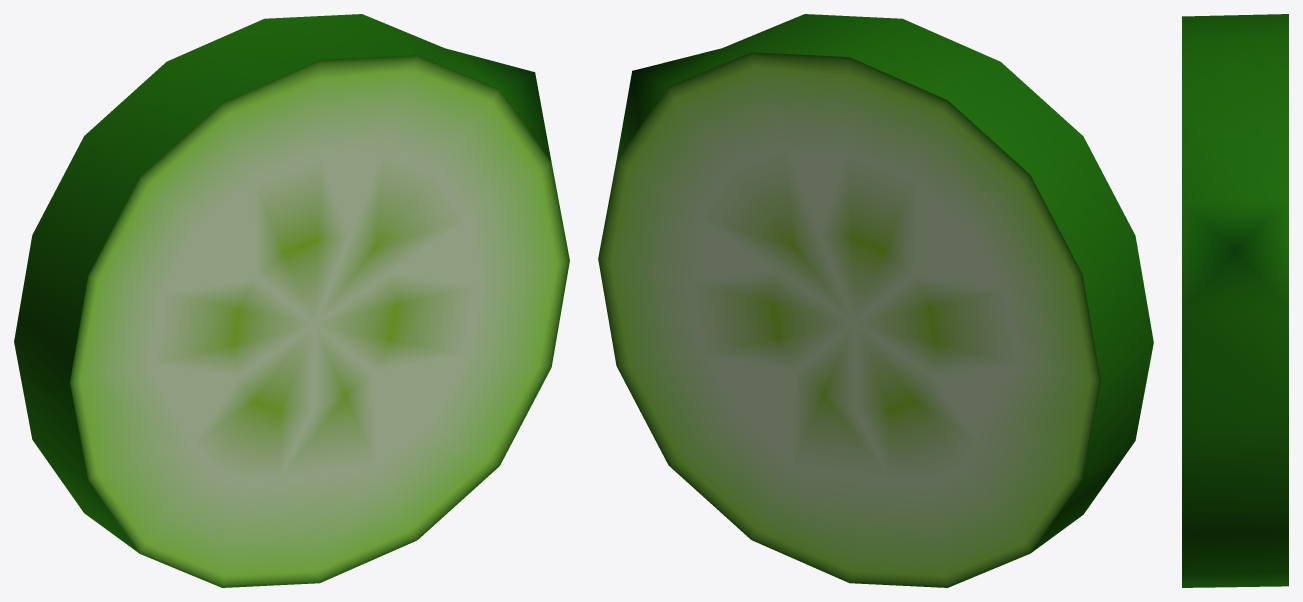
The model's file is Cucumber_Slice_10.fbx.
The picture shows the model from 3 angles, left to right: view 1: azimuth 30°, elevation 25°; view 2: azimuth 150°, elevation 25°; view 3: azimuth 270°, elevation 25°; orthographic projection.
Parts seen in each view (by area): view 1: Cucumber_Slice_10; view 2: Cucumber_Slice_10; view 3: Cucumber_Slice_10.
Part boxes in pixels (box(x1,y1,x2,y2)): Cucumber_Slice_10: box(14, 14, 569, 587); Cucumber_Slice_10: box(598, 14, 1153, 587); Cucumber_Slice_10: box(1182, 14, 1288, 587).
Bounding box in the file's own units: 4.6 × 4.6 × 0.862.
